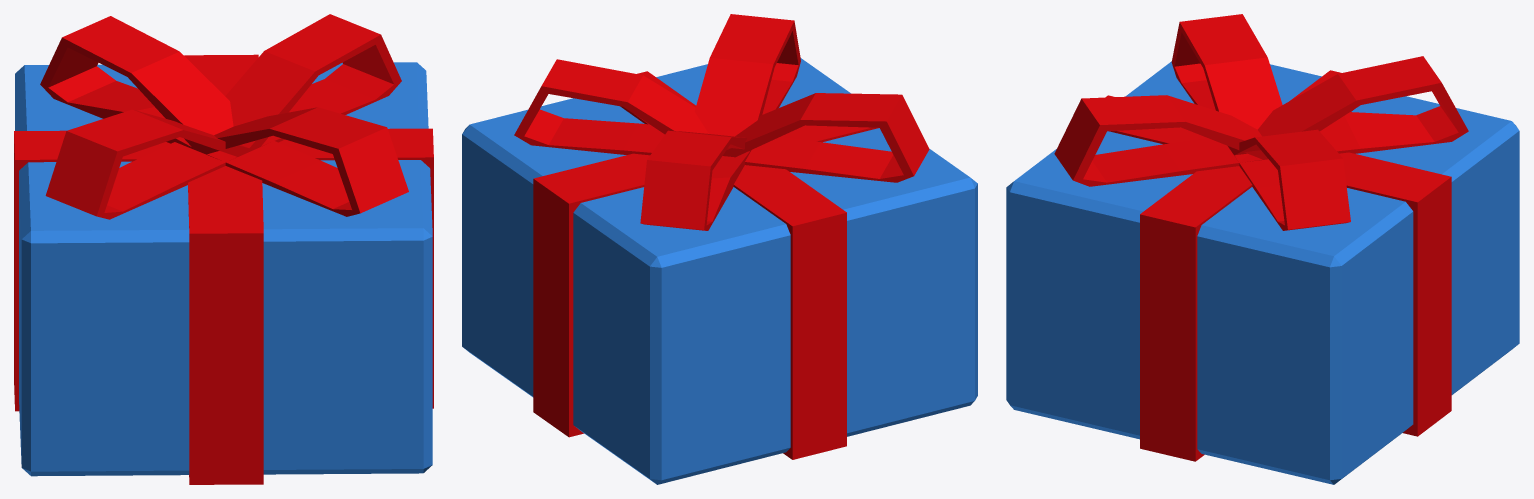
Rendered from gift1.fbx.
3 views of the same model, side by side, from view 1: azimuth 30°, elevation 25°; view 2: azimuth 150°, elevation 25°; view 3: azimuth 270°, elevation 25° (orthographic). The views are drawn at different scales.
Parts seen in each view (by area): view 1: BlueGift; view 2: BlueGift; view 3: BlueGift.
Part boxes in pixels (bbox=[...]): BlueGift: bbox=[14, 14, 433, 484]; BlueGift: bbox=[462, 14, 977, 484]; BlueGift: bbox=[1006, 14, 1519, 484].
Size of the model in its own units: 47.36 by 29.8 by 47.36.
